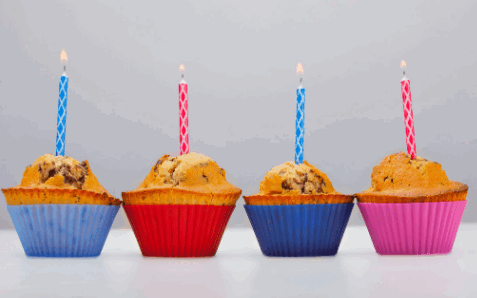Fire: (291, 60, 312, 84), (56, 48, 77, 70), (394, 56, 414, 75), (172, 60, 191, 78)
